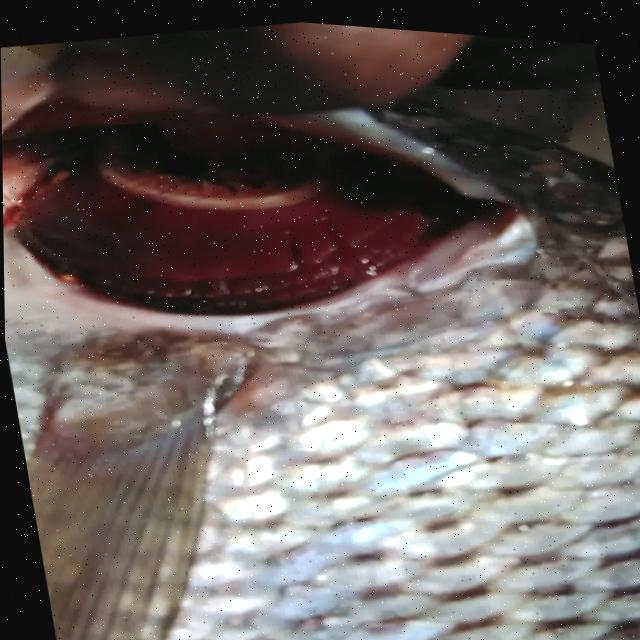Fresh: (0, 33, 512, 394)
